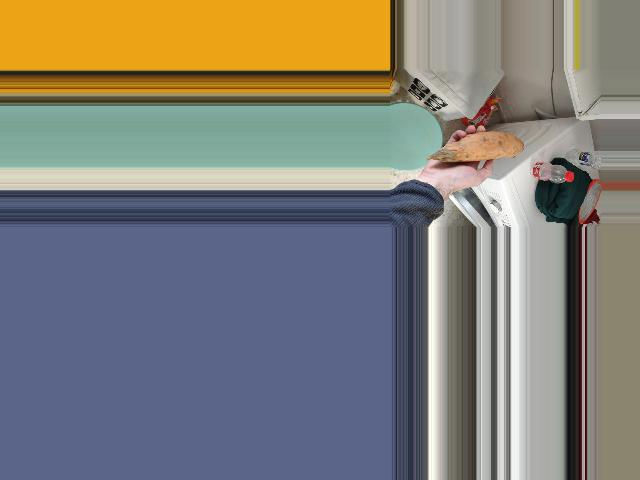sweet_potato: (437, 131, 514, 164)
